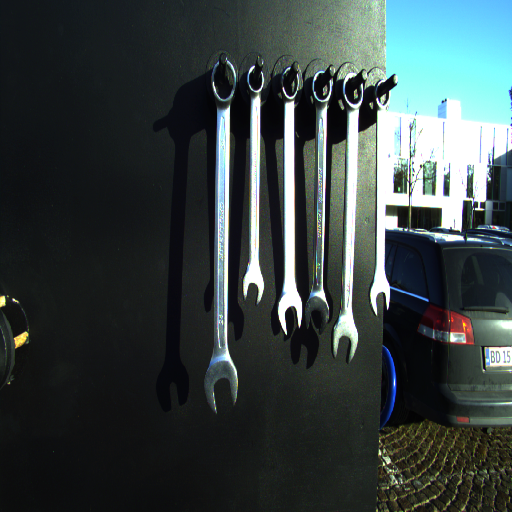bottom: (203, 355, 240, 415), (330, 323, 360, 363), (303, 295, 331, 337), (274, 297, 303, 337), (240, 267, 266, 307), (366, 281, 393, 319)
top: (208, 58, 239, 107), (340, 71, 365, 111), (310, 68, 334, 107), (278, 64, 301, 101), (372, 77, 394, 111), (245, 62, 265, 96)
